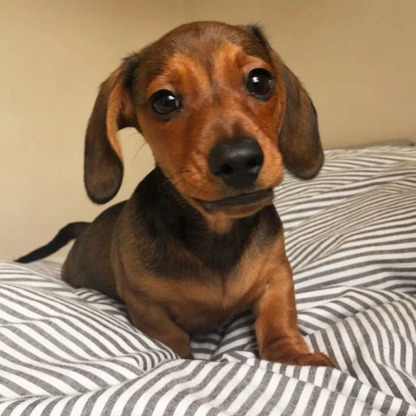dachshund: (57, 19, 350, 378)
